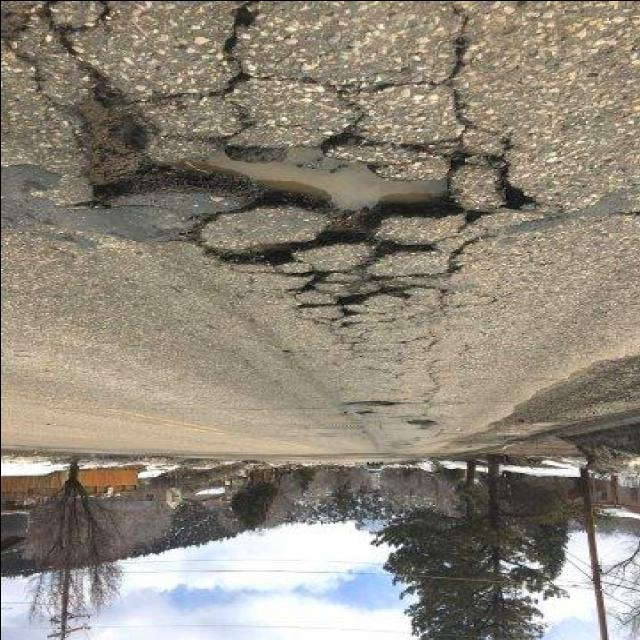jalan retak: (157, 46, 497, 175), (0, 0, 166, 218), (282, 252, 456, 366), (440, 105, 560, 241), (182, 0, 300, 104), (278, 278, 394, 378), (152, 212, 306, 284), (440, 0, 500, 138), (320, 68, 468, 114), (400, 334, 464, 414), (604, 188, 640, 232)
lubang: (34, 68, 488, 340), (499, 349, 637, 426), (444, 421, 564, 448), (344, 402, 396, 419), (408, 416, 433, 432)
